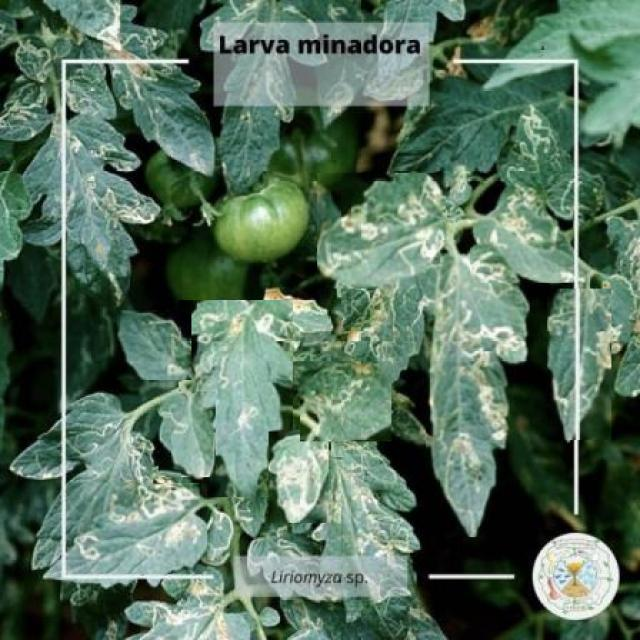Leaf Miner: (426, 240, 530, 537), (179, 300, 294, 497), (318, 173, 446, 288), (67, 483, 207, 574), (470, 183, 573, 283), (547, 288, 612, 441), (300, 362, 391, 442), (270, 431, 330, 523), (118, 310, 191, 380), (158, 391, 216, 478)
